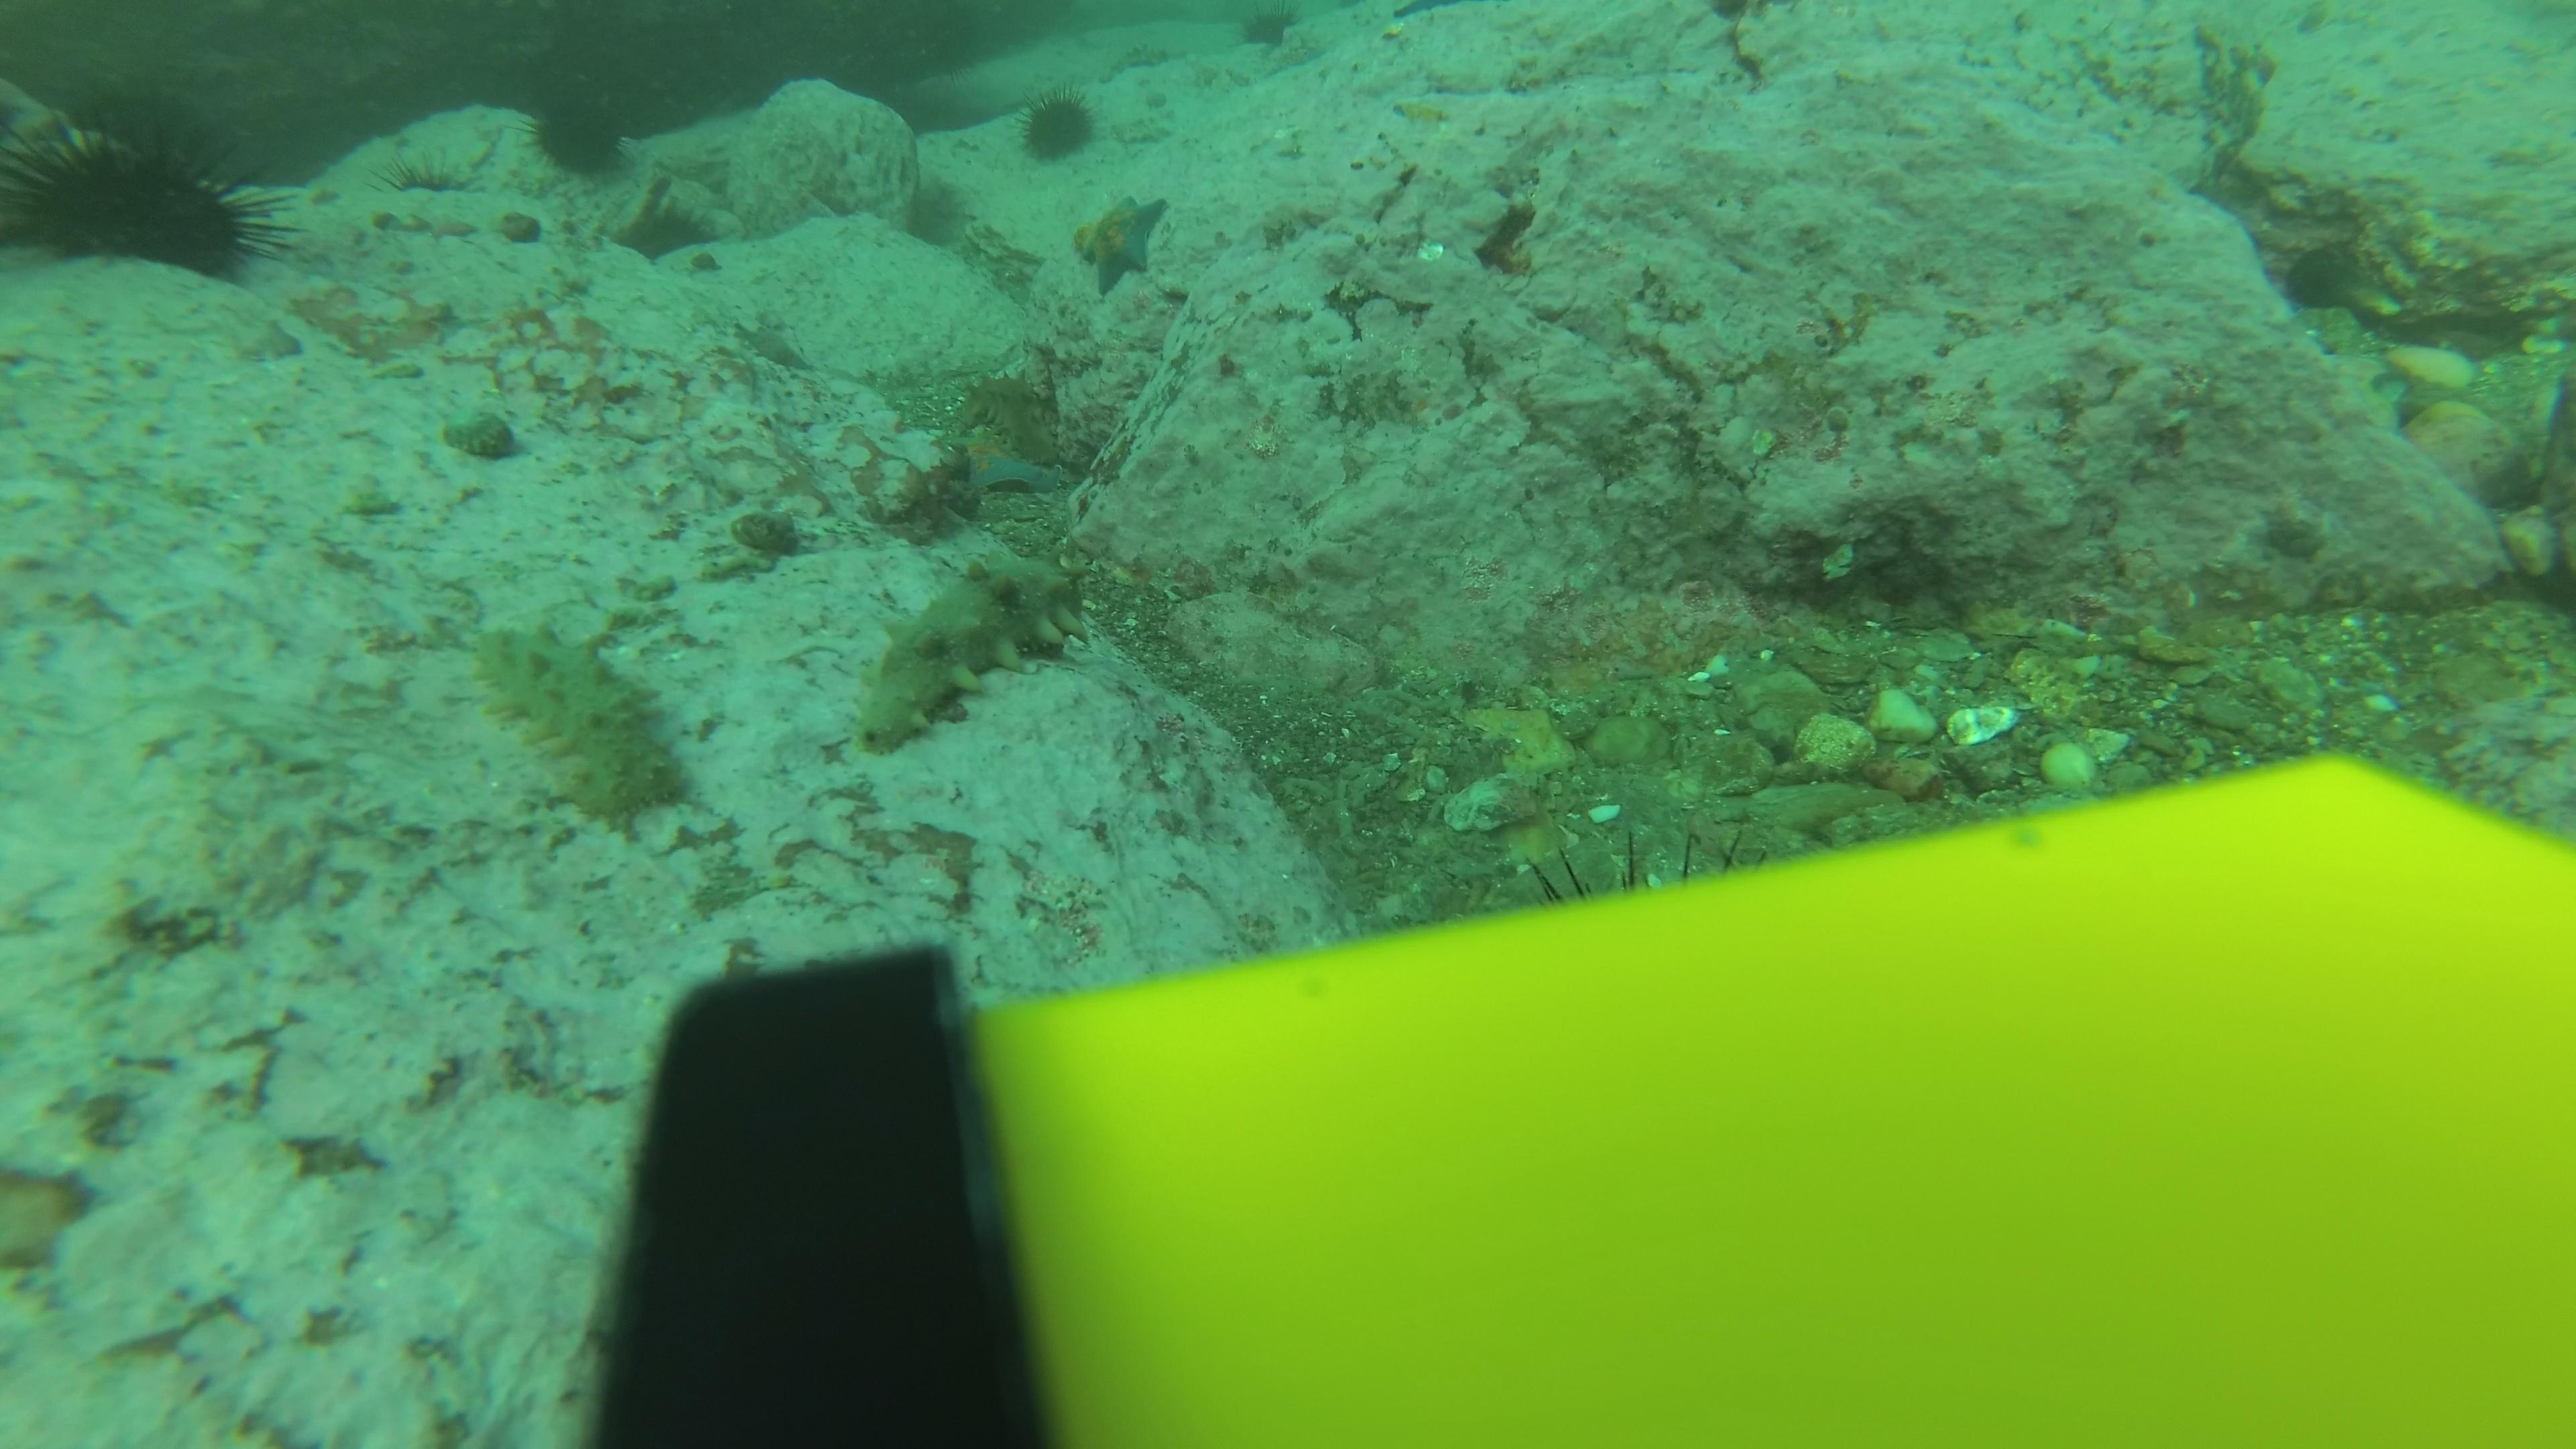echinus: (4, 104, 287, 288), (524, 81, 639, 180), (357, 147, 488, 214), (1014, 83, 1102, 166), (1235, 2, 1302, 53)
holothurian: (840, 538, 1092, 761), (464, 609, 688, 832), (941, 366, 1056, 462)
starfish: (1070, 189, 1173, 294), (952, 423, 1077, 501), (731, 311, 814, 375)
